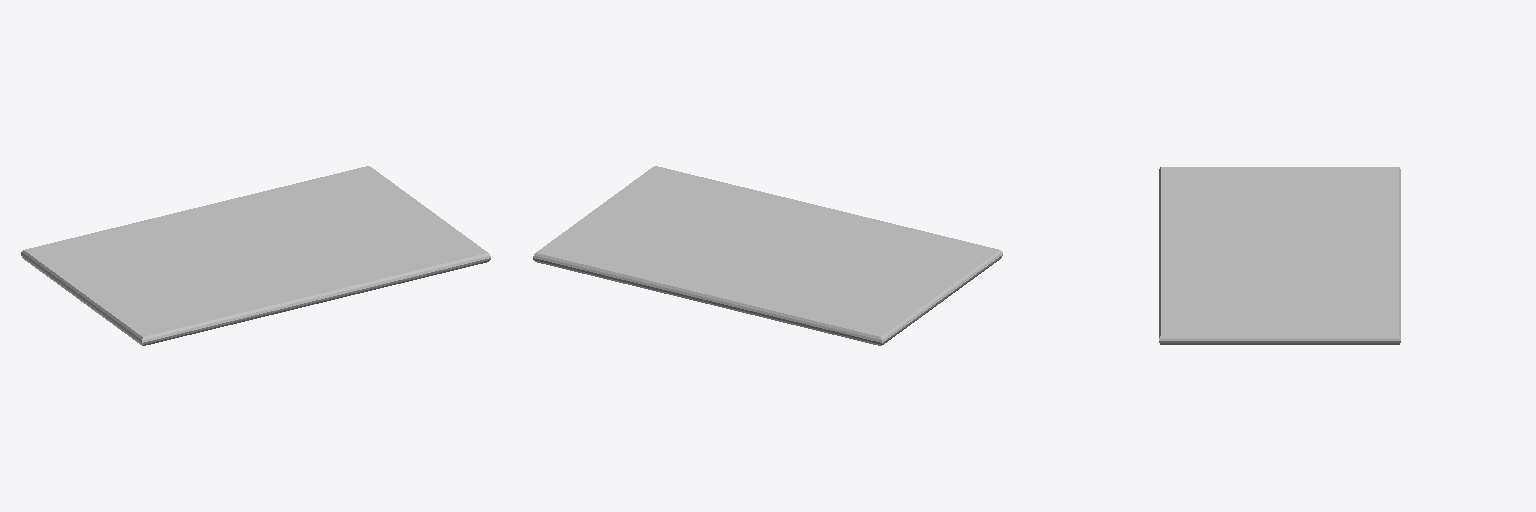
File: Roof.obj
3 renders of one model, left to right at view 1: azimuth 30°, elevation 25°; view 2: azimuth 150°, elevation 25°; view 3: azimuth 270°, elevation 25°, orthographic.
Visible parts, largest first — view 1: Cube; view 2: Cube; view 3: Cube.
Boxes of the visible parts, x1=… form: Cube: x1=21, y1=166, x2=490, y2=345; Cube: x1=533, y1=166, x2=1002, y2=345; Cube: x1=1159, y1=167, x2=1400, y2=344.
Size of the model in its own units: 78.94 by 2 by 47.5.